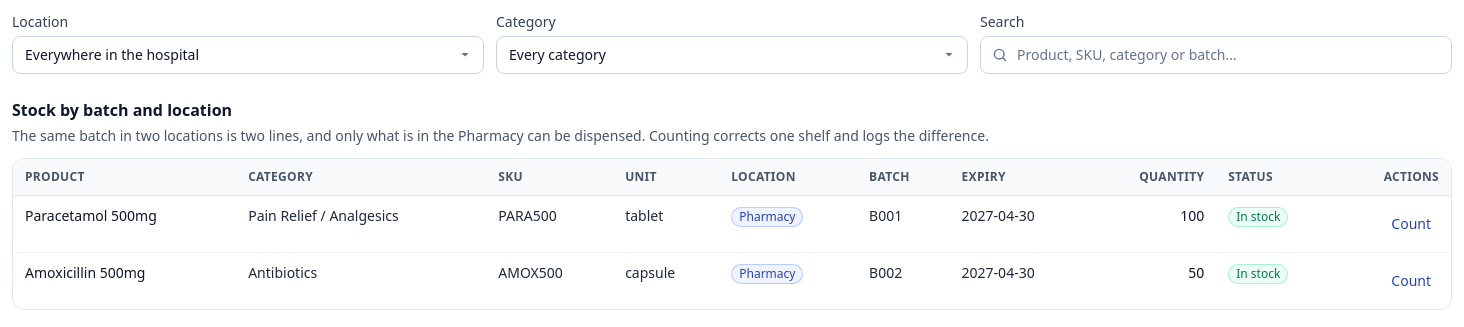
Test: stock on hand, by category › narrows the list to one category, on the server rather than in the browser
expect the text "Paracetamol 500mg" is shown: met, box x1=13 y1=196 x2=236 y2=252
expect the text "Amoxicillin 500mg" is shown: met, box x1=13 y1=252 x2=236 y2=309
Select "Antibiotics" in the dropdown labelled "Category": (732, 55) x1=496 y1=36 x2=968 y2=74
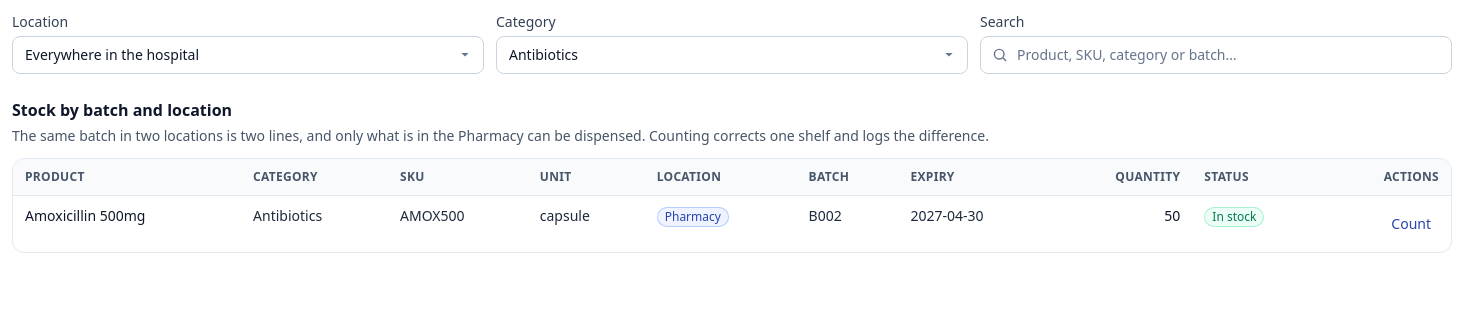
expect the text "Amoxicillin 500mg" is shown: met, box x1=13 y1=196 x2=241 y2=252
expect the text "Paracetamol 500mg" is gone: met
